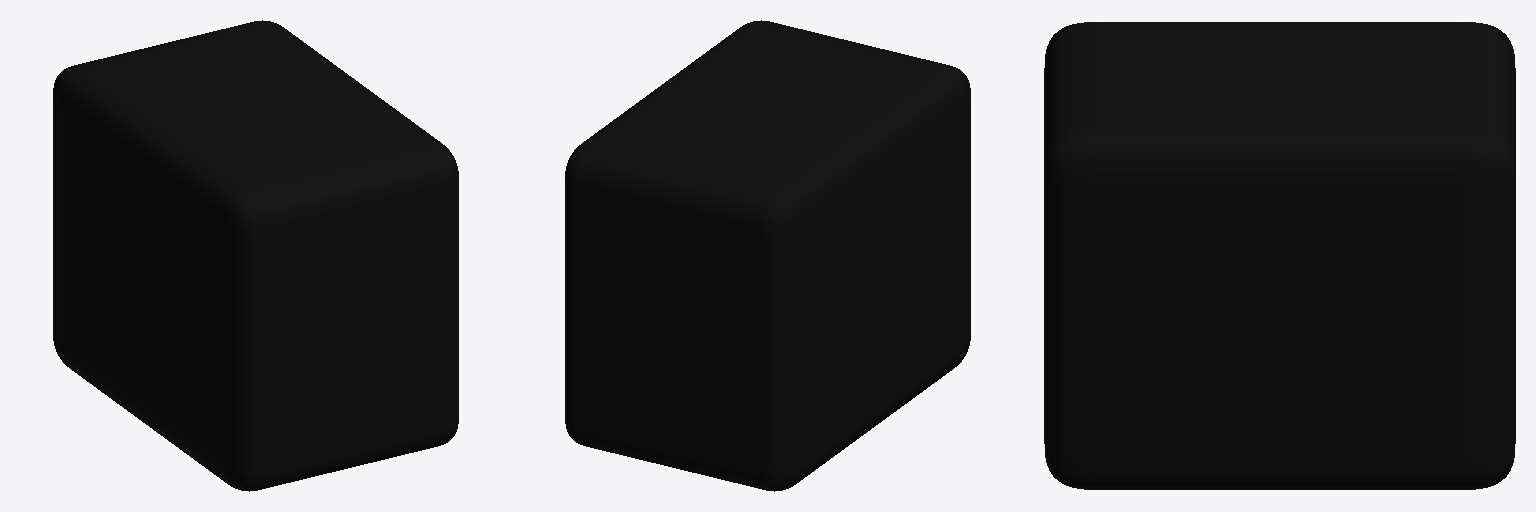
robot.urdf — block:
<robot name="block">
  <link name="block_base_link">
    <contact>
      <lateral_friction value="0.2"/>
      <rolling_friction value="0.001"/>
      <contact_cfm value="0.0"/>
      <contact_erp value="1.0"/>
    </contact>
    <inertial>
      <origin rpy="0 0 0" xyz="0 0 0"/>
      <mass value="0.05"/>
      <inertia ixx="0" ixy="0" ixz="0" iyy="0" iyz="0" izz="0"/>
    </inertial>
    <visual>
      <origin rpy="0 0 0" xyz="0 0 0"/>
      <geometry>
        <mesh filename="clevr_cube23.obj" scale="1 1 1"/>
      </geometry>
      <material name="tray_material">
        <color rgba="0.1 0.1 0.1 1"/>
      </material>
    </visual>
    <collision>
      <origin rpy="0 0 0" xyz="0 0 0"/>
      <geometry>
        <mesh filename="clevr_cube23.obj" scale="1 1 1"/>
      </geometry>
    </collision>
  </link>
</robot>

--- Render facts (derived) ---
3 views of the same robot in one strip: view 1: azimuth 30°, elevation 25°; view 2: azimuth 150°, elevation 25°; view 3: azimuth 270°, elevation 25° (orthographic).
Robot: block — 1 links, 0 joints (none); root link block_base_link; default pose: all joints at 0.
Links seen in each view (by area): view 1: block_base_link; view 2: block_base_link; view 3: block_base_link.
Boxes of the visible links, x1,y1,x2,y2 form: block_base_link: [53, 20, 458, 491]; block_base_link: [565, 20, 970, 491]; block_base_link: [1044, 22, 1515, 489].
Bounding box of the posed robot: 0.04 × 0.06 × 0.05 m (x, y, z).
1 mesh visuals loaded from 1 distinct referenced files (1 OBJ).